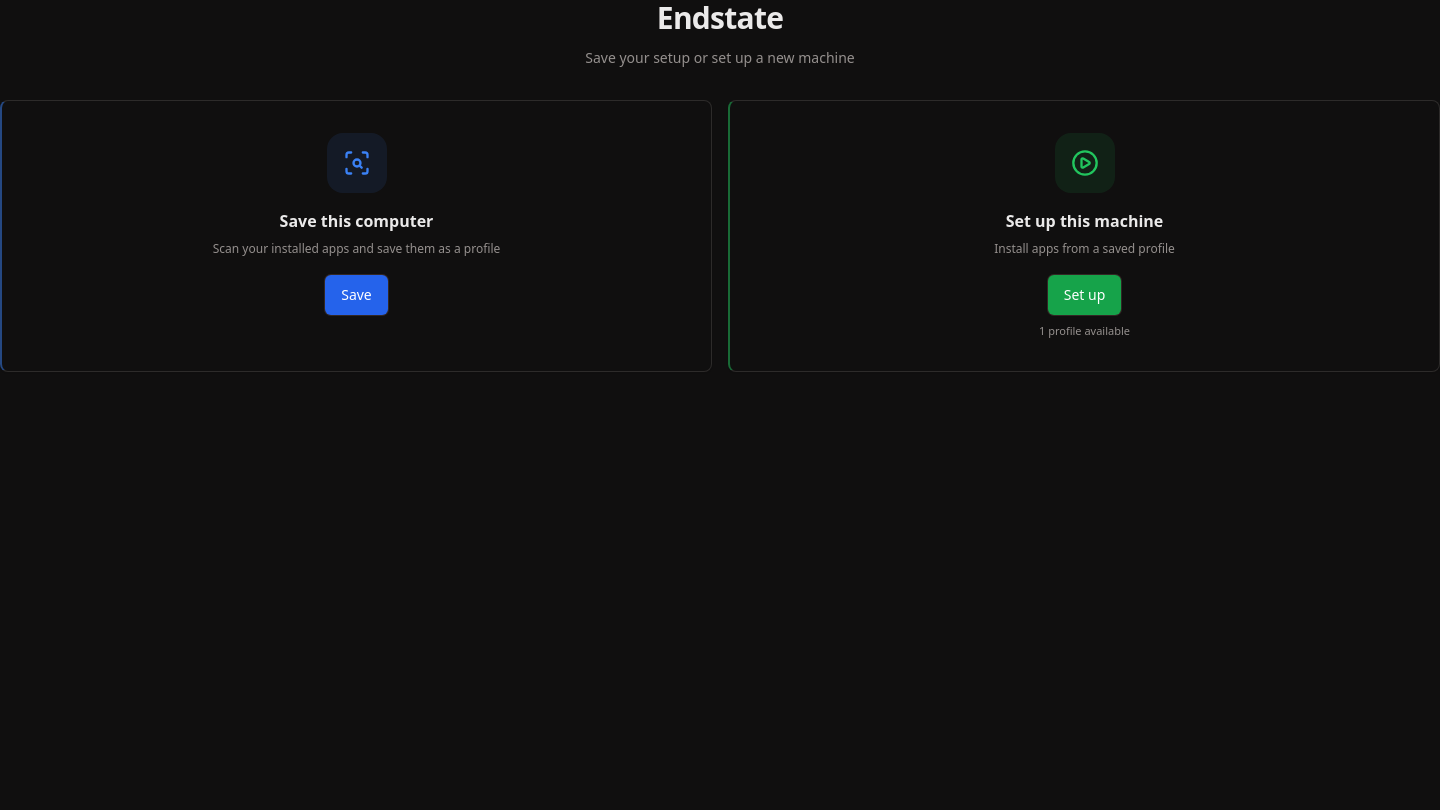
Test: Overview Details Modal - Per-Action State › should show Setup Apply details after completion (runningAction cleared)
// Enter setup flow to see the action content
Click the button with test id "flow-setup".
click(1084, 236)  # box x1=728 y1=100 x2=1439 y2=372
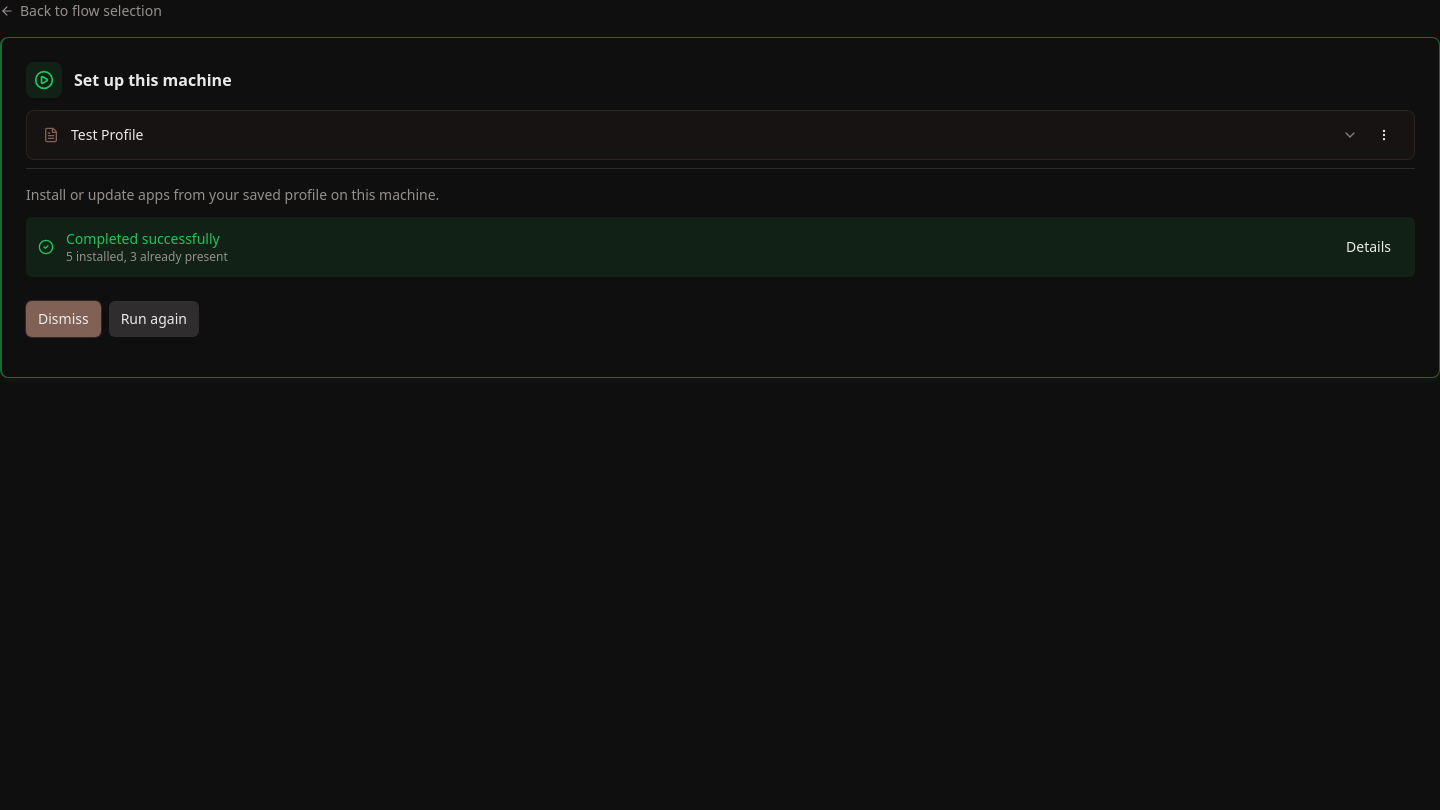
// Click Details button
Click the button "Details".
click(1368, 247)  # box x1=1334 y1=229 x2=1403 y2=265
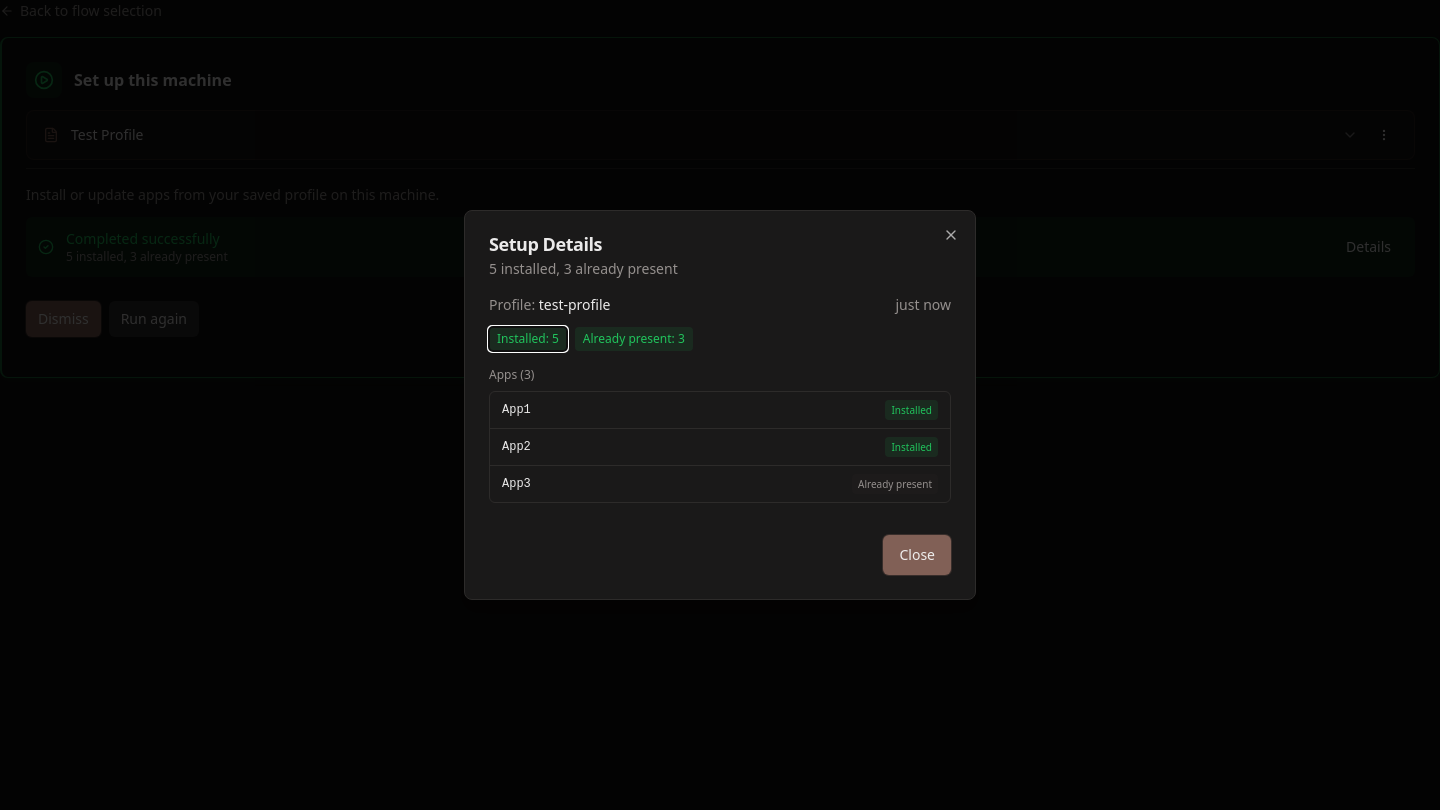
Result: the text "5 installed, 3 already present" below "Completed successfully" is shown at x1=66 y1=248 x2=228 y2=265
Result: the heading "Setup Details" is shown at x1=489 y1=232 x2=602 y2=256
Result: the text "App1" is shown at x1=502 y1=403 x2=531 y2=417
